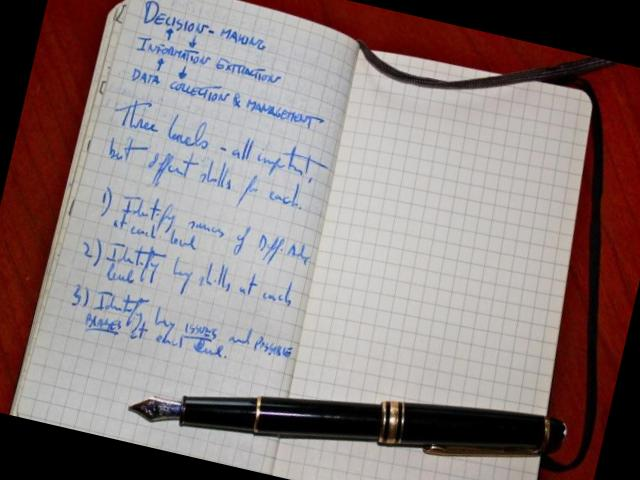PEN: (123, 382, 571, 470)
